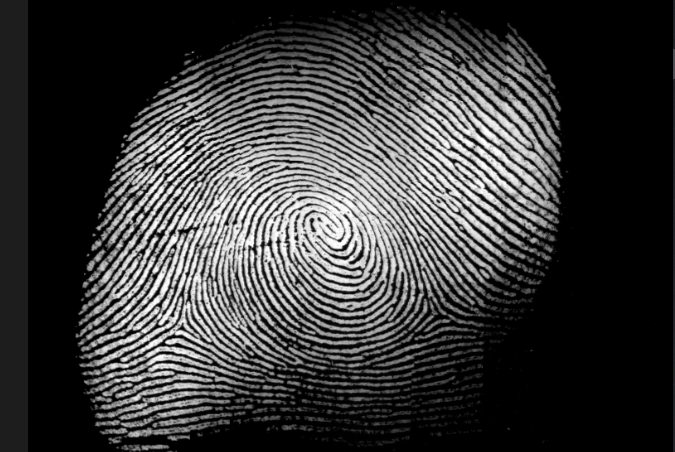nucelo: (304, 211, 339, 235)
verticilo: (417, 299, 454, 330), (166, 315, 197, 339)
